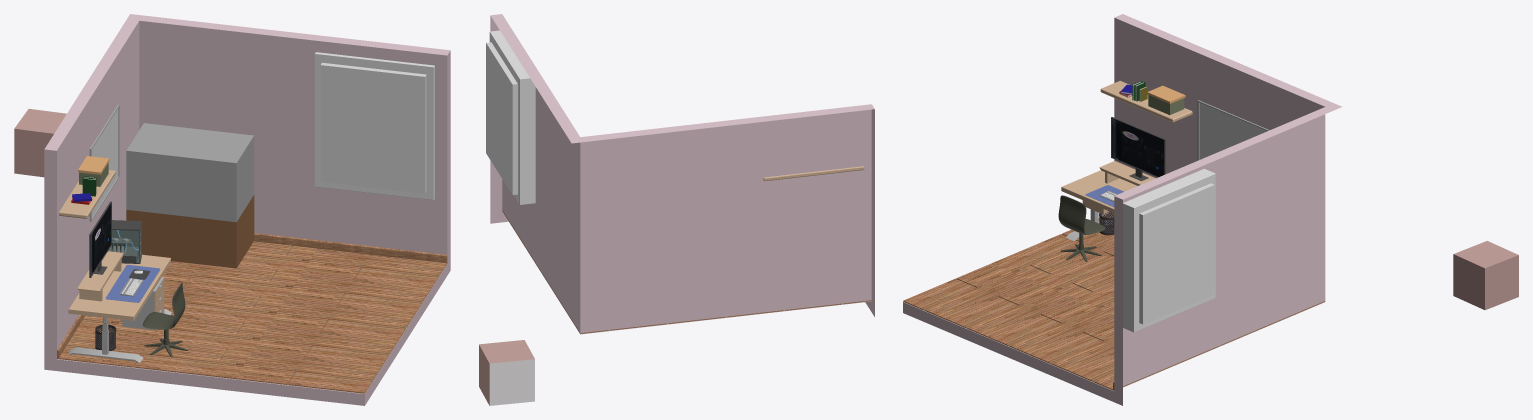
The model's file is threeJSroom(1.0.2).glb.
3 views of the same model, side by side, from view 1: azimuth 30°, elevation 25°; view 2: azimuth 150°, elevation 25°; view 3: azimuth 270°, elevation 25° (orthographic). The views are drawn at different scales.
Parts seen in each view (by area): view 1: room, floor, window, fishtank glass, fishtank, window frame, Cube.008, table, baseboard, board, tabletop, computer (+8 smaller); view 2: room, window, Cube.008, window frame, floor, shelf; view 3: room, floor, window, window frame, Cube.008, board, screen black, table, chair.001, shelf, box, tabletop.
Part boxes in pixels (x1=…): room: x1=44, y1=14, x2=450, y2=405; floor: x1=58, y1=241, x2=446, y2=393; window: x1=320, y1=62, x2=426, y2=193; fishtank glass: x1=126, y1=123, x2=254, y2=222; fishtank: x1=126, y1=195, x2=254, y2=268; window frame: x1=314, y1=52, x2=434, y2=200; Cube.008: x1=14, y1=109, x2=66, y2=177; table: x1=68, y1=254, x2=170, y2=320; baseboard: x1=57, y1=233, x2=447, y2=358; board: x1=89, y1=104, x2=119, y2=221; tabletop: x1=77, y1=251, x2=123, y2=301; computer: x1=108, y1=220, x2=141, y2=263; room: x1=490, y1=14, x2=874, y2=334; window: x1=486, y1=42, x2=517, y2=194; Cube.008: x1=479, y1=340, x2=534, y2=405; window frame: x1=489, y1=30, x2=535, y2=204; floor: x1=502, y1=210, x2=871, y2=333; shelf: x1=763, y1=166, x2=864, y2=181; room: x1=903, y1=14, x2=1342, y2=405; floor: x1=903, y1=213, x2=1325, y2=390; window: x1=1139, y1=183, x2=1214, y2=324; window frame: x1=1123, y1=168, x2=1215, y2=332; Cube.008: x1=1453, y1=241, x2=1518, y2=310; board: x1=1197, y1=100, x2=1269, y2=160; screen black: x1=1112, y1=118, x2=1163, y2=176; table: x1=1061, y1=170, x2=1137, y2=212; chair.001: x1=1058, y1=195, x2=1105, y2=234; shelf: x1=1100, y1=80, x2=1192, y2=122; box: x1=1147, y1=85, x2=1185, y2=114; tabletop: x1=1099, y1=161, x2=1155, y2=185.
Size of the model in its own units: 18.41 by 9.53 by 25.79.
41 materials, 4 textured.
